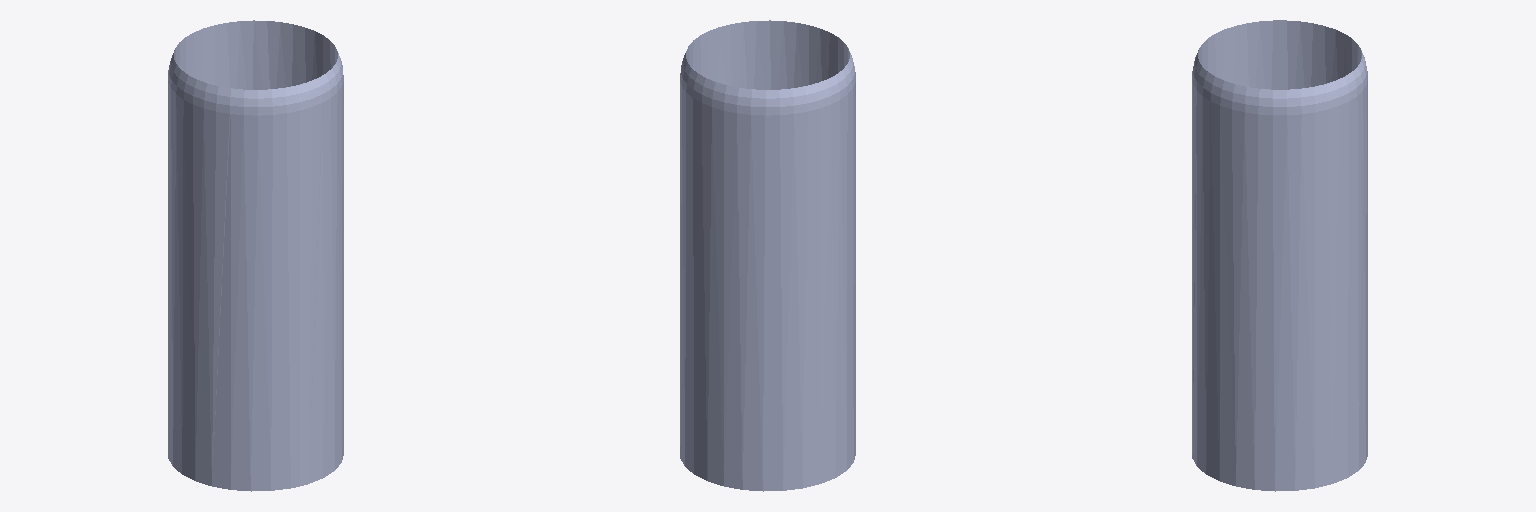
URDF robot description (cup_new.SLDPRT):
<?xml version="1.0" encoding="utf-8"?>
<!-- This URDF was automatically created by SolidWorks to URDF Exporter! Originally created by [author] ([email redacted]) 
     Commit Version: 1.5.1-0-g916b5db  Build Version: 1.5.7152.31018
     For more information, please see http://wiki.ros.org/sw_urdf_exporter -->
<robot
  name="cup_new.SLDPRT">
  <link
    name="cup_new_full">
    <inertial>
      <origin
        xyz="-3.7353E-35 2.81436044330632E-18 0.054214"
        rpy="0 0 0" />
      <mass
        value="0.29991" />
      <inertia
        ixx="0.00039735"
        ixy="1.504E-38"
        ixz="-7.7247E-37"
        iyy="0.00039735"
        iyz="-5.58836762726527E-21"
        izz="0.00014167" />
    </inertial>
    <visual>
      <origin
        xyz="0 0 0"
        rpy="1.5707963267949 0 0" />
      <geometry>
        <mesh
          filename="package://cup_new_full/meshes/cup_new_full.STL" />
      </geometry>
      <material
        name="">
        <color
          rgba="0.79216 0.81961 0.93333 1" />
        <texture
          filename="package://cup_new_full/textures/" />
      </material>
    </visual>
    <collision>
      <origin
        xyz="0 0 0"
        rpy="1.5707963267949 0 0" />
      <geometry>
        <mesh
          filename="package://cup_new_full/meshes/cup_new_full.STL" />
      </geometry>
    </collision>
  </link>
</robot>

--- Facts derived from the render (not from the file) ---
Views: 3 orthographic renders of the robot side by side, from view 1: azimuth 30°, elevation 25°; view 2: azimuth 150°, elevation 25°; view 3: azimuth 270°, elevation 25°.
Robot: cup_new.SLDPRT — 1 links, 0 joints (none); root link cup_new_full; default pose: every joint at zero.
Visible links, largest first — view 1: cup_new_full; view 2: cup_new_full; view 3: cup_new_full.
Boxes of the visible links, x1=… form: cup_new_full: x1=168, y1=20, x2=343, y2=491; cup_new_full: x1=680, y1=20, x2=855, y2=491; cup_new_full: x1=1192, y1=20, x2=1367, y2=491.
Bounding box of the posed robot: 0.0599 × 0.06 × 0.15 m (x, y, z).
1 mesh visuals loaded from 1 distinct referenced files (1 binary STL).